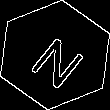N_NE: (22, 23, 88, 87)
